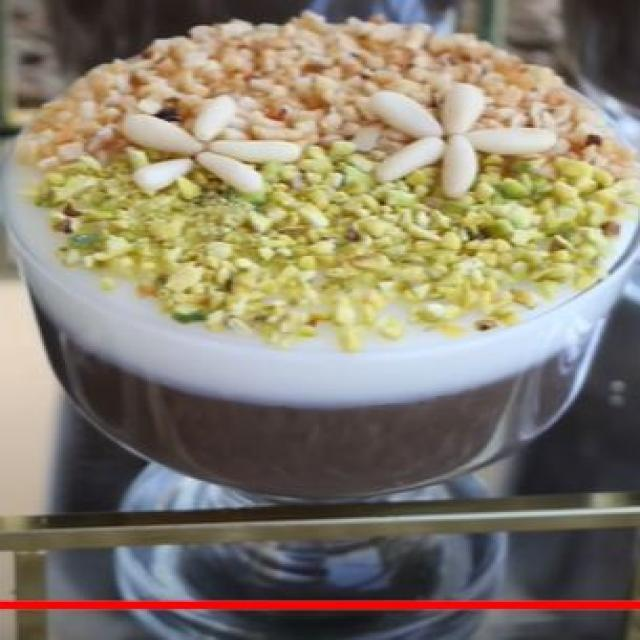asida-zkoukou: (0, 20, 640, 528)
